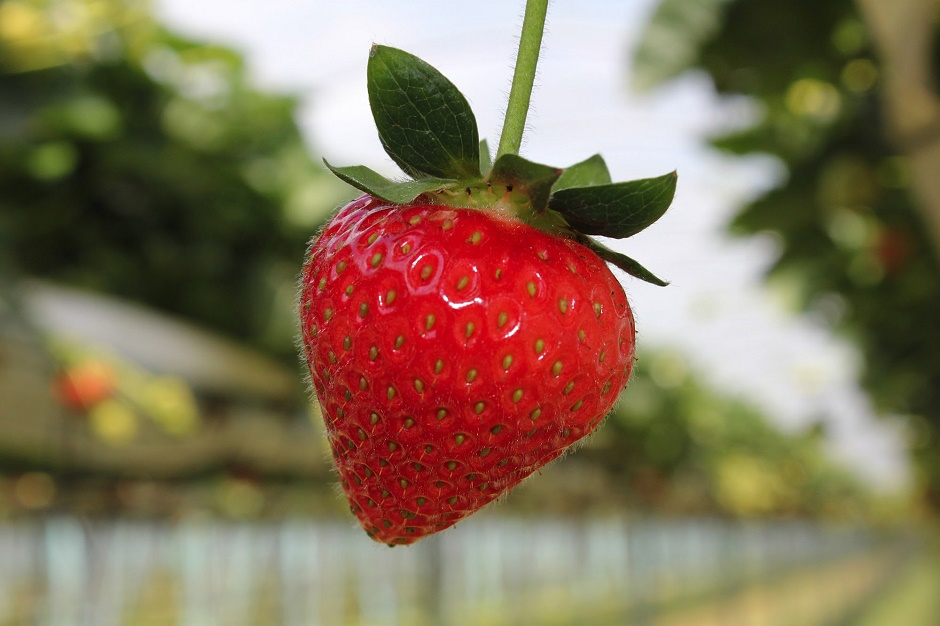ripe: (295, 157, 645, 548)
